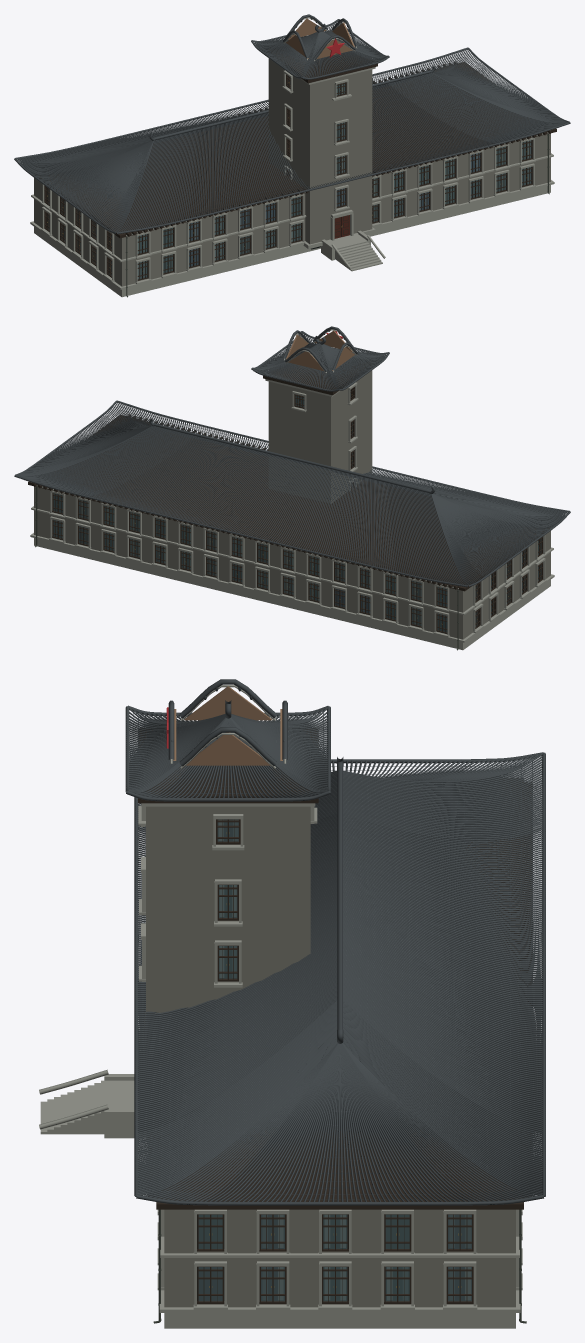
Rendered from beidalou.glb.
The picture shows the model from 3 angles, top to bottom: view 1: azimuth 30°, elevation 25°; view 2: azimuth 150°, elevation 25°; view 3: azimuth 270°, elevation 25°; orthographic projection. The views are drawn at different scales.
Parts seen in each view (by area): view 1: roof-ribs, window-wood, historic-brick, limestone, window-glass, window-glass-warm, window-glass-cool, roof, tower-gable-brick, recess; view 2: roof-ribs, window-wood, historic-brick, limestone, window-glass-warm, window-glass, roof, tower-gable-brick, recess; view 3: roof-ribs, historic-brick, limestone, window-wood, window-glass-warm, window-glass, recess, tower-gable-brick, roof, curtain.
Part boxes in pixels (box(x1,y1,x2,y2)): roof-ribs: box(14, 14, 570, 234); window-wood: box(35, 49, 556, 280); historic-brick: box(34, 58, 550, 286); limestone: box(30, 17, 554, 297); window-glass: box(61, 122, 531, 279); window-glass-warm: box(47, 82, 505, 275); window-glass-cool: box(92, 77, 480, 266); roof: box(49, 26, 546, 230); tower-gable-brick: box(286, 18, 354, 58); recess: box(140, 84, 530, 278); roof-ribs: box(14, 326, 570, 587); window-wood: box(28, 343, 549, 633); historic-brick: box(34, 370, 550, 639); limestone: box(30, 329, 554, 650); window-glass-warm: box(53, 453, 541, 626); window-glass: box(53, 394, 525, 632); roof: box(57, 338, 535, 583); tower-gable-brick: box(286, 330, 354, 370); recess: box(54, 396, 446, 631); roof-ribs: box(125, 679, 545, 1205); historic-brick: box(146, 806, 515, 1307); limestone: box(39, 685, 525, 1328); window-wood: box(138, 728, 532, 1303); window-glass-warm: box(198, 885, 409, 1301); window-glass: box(198, 819, 471, 1301); recess: box(197, 823, 471, 1300); tower-gable-brick: box(173, 686, 282, 765); roof: box(133, 713, 532, 1199); curtain: box(219, 823, 470, 1299).
Size of the model in its own units: 65.74 by 28.9 by 31.71.
